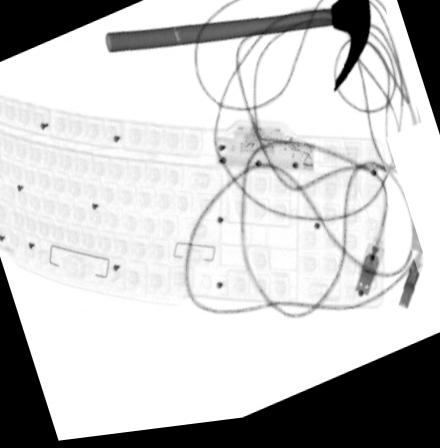Hammer: (103, 0, 370, 101)
